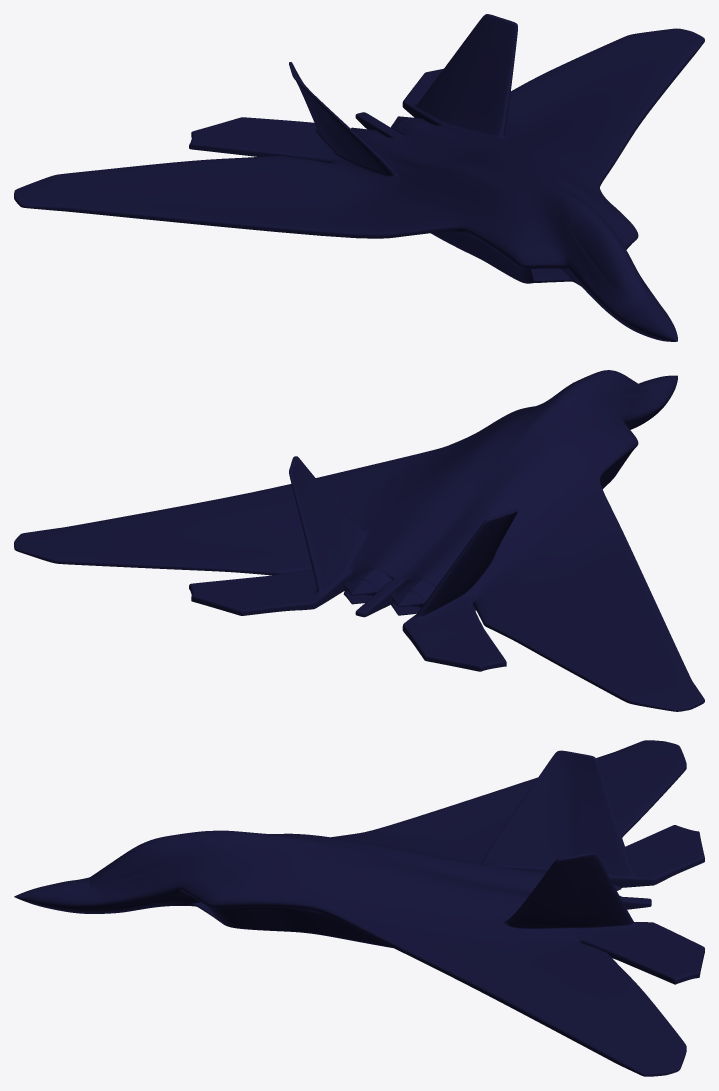
File: jet.fbx
3 views of the same model, one above another, from view 1: azimuth 30°, elevation 25°; view 2: azimuth 150°, elevation 25°; view 3: azimuth 270°, elevation 25° (orthographic).
Visible parts, largest first — view 1: f22; view 2: f22; view 3: f22.
Part boxes in pixels (x1=…): f22: x1=14, y1=14, x2=704, y2=341; f22: x1=14, y1=370, x2=704, y2=711; f22: x1=14, y1=740, x2=704, y2=1076.
Size of the model in its own units: 1044 by 178 by 912.
